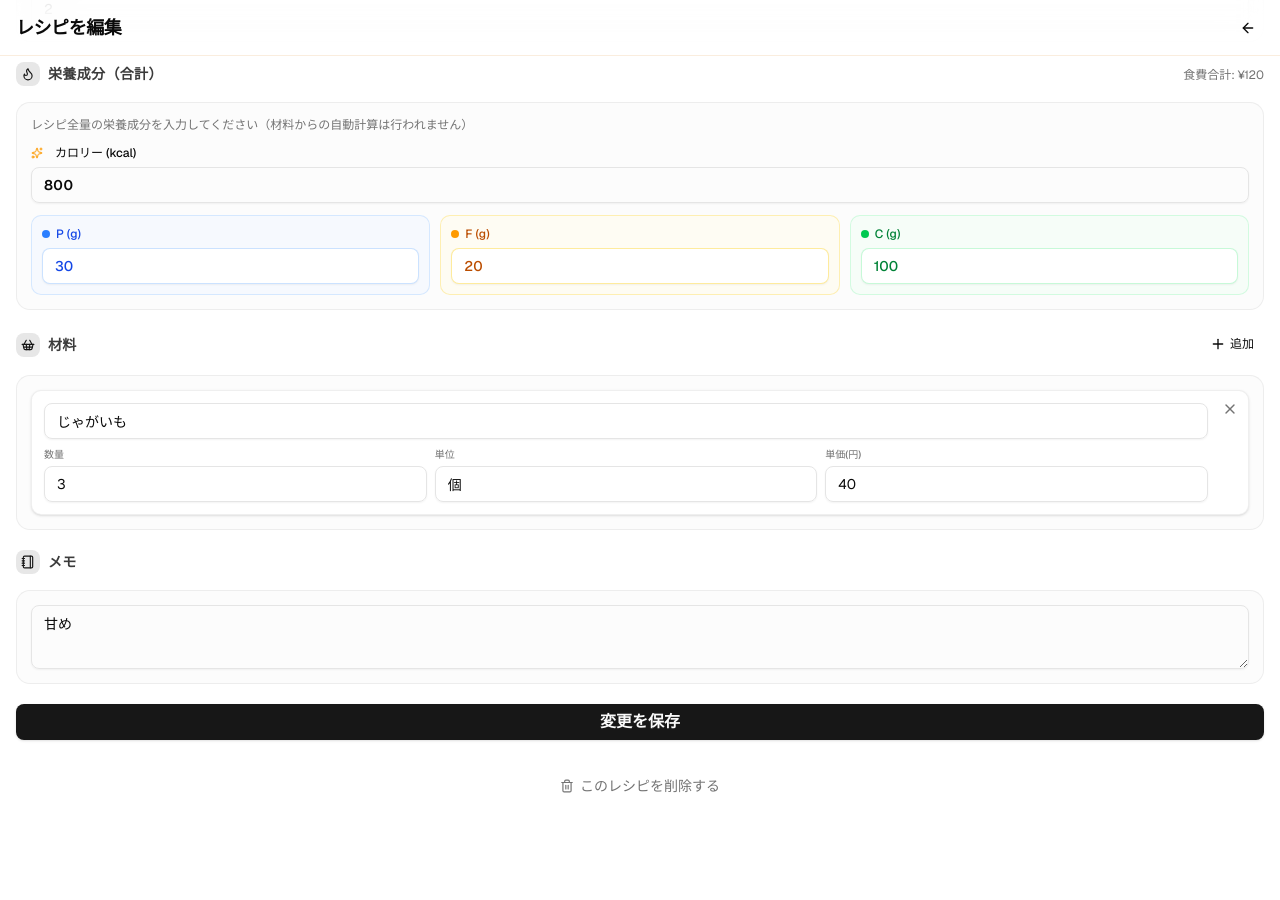
Scenario: RecipeFormView (S-05 レシピ登録/編集) › 編集 › 02 削除確認: 「このレシピを削除する」で、名前入りの確認が出て、キャンセルすると消さない
(page scrolled)
What coordinates should you click on to do the following:
click the button "このレシピを削除する"
I would click on:
 (640, 786)
Its box is [16,768,1264,804].
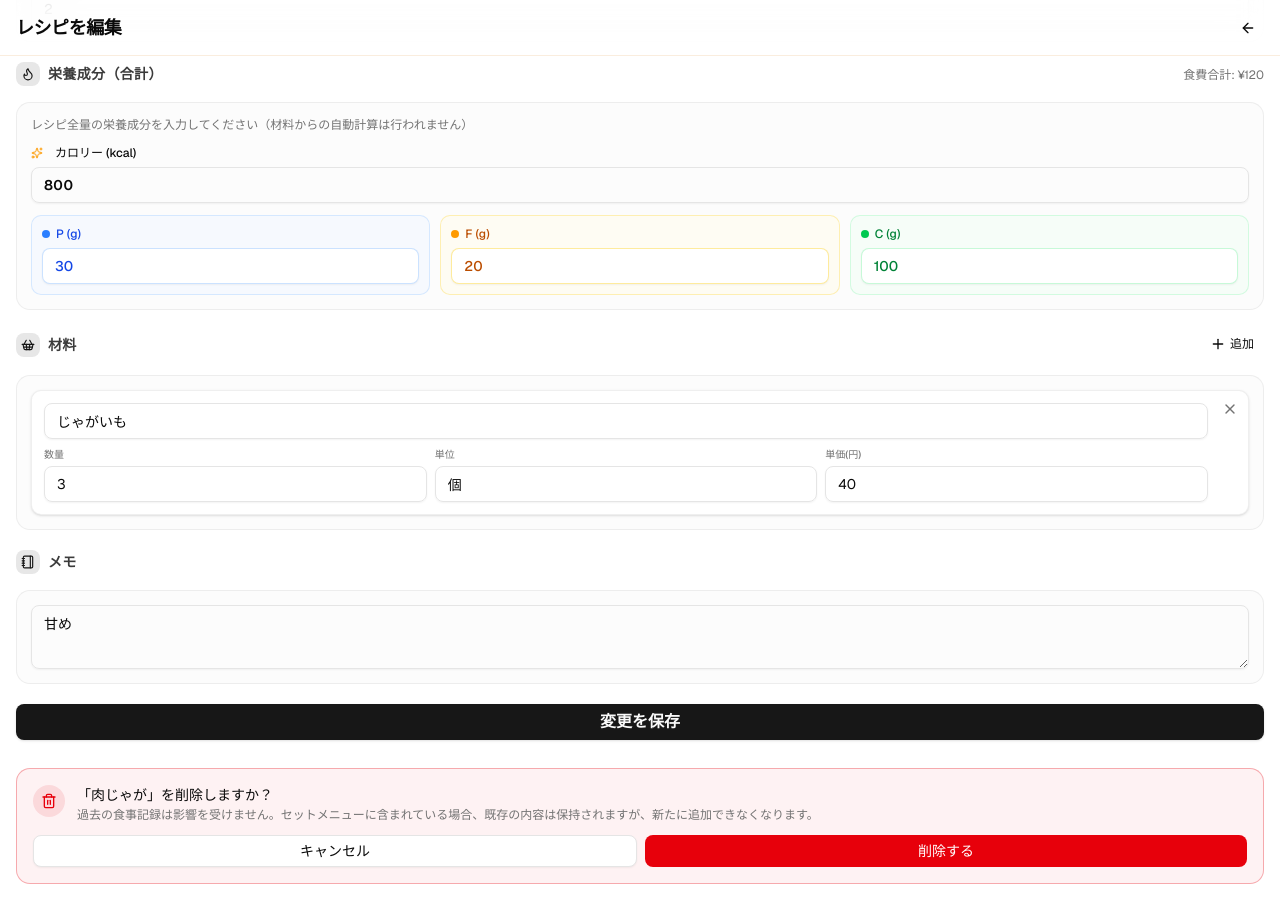
Expected: the text "「肉じゃが」を削除しますか？" is shown, [77,786,273,804]
What coordinates should you click on to do the following:
click the button "キャンセル"
I would click on:
 (335, 851)
Its box is [33,835,637,867].
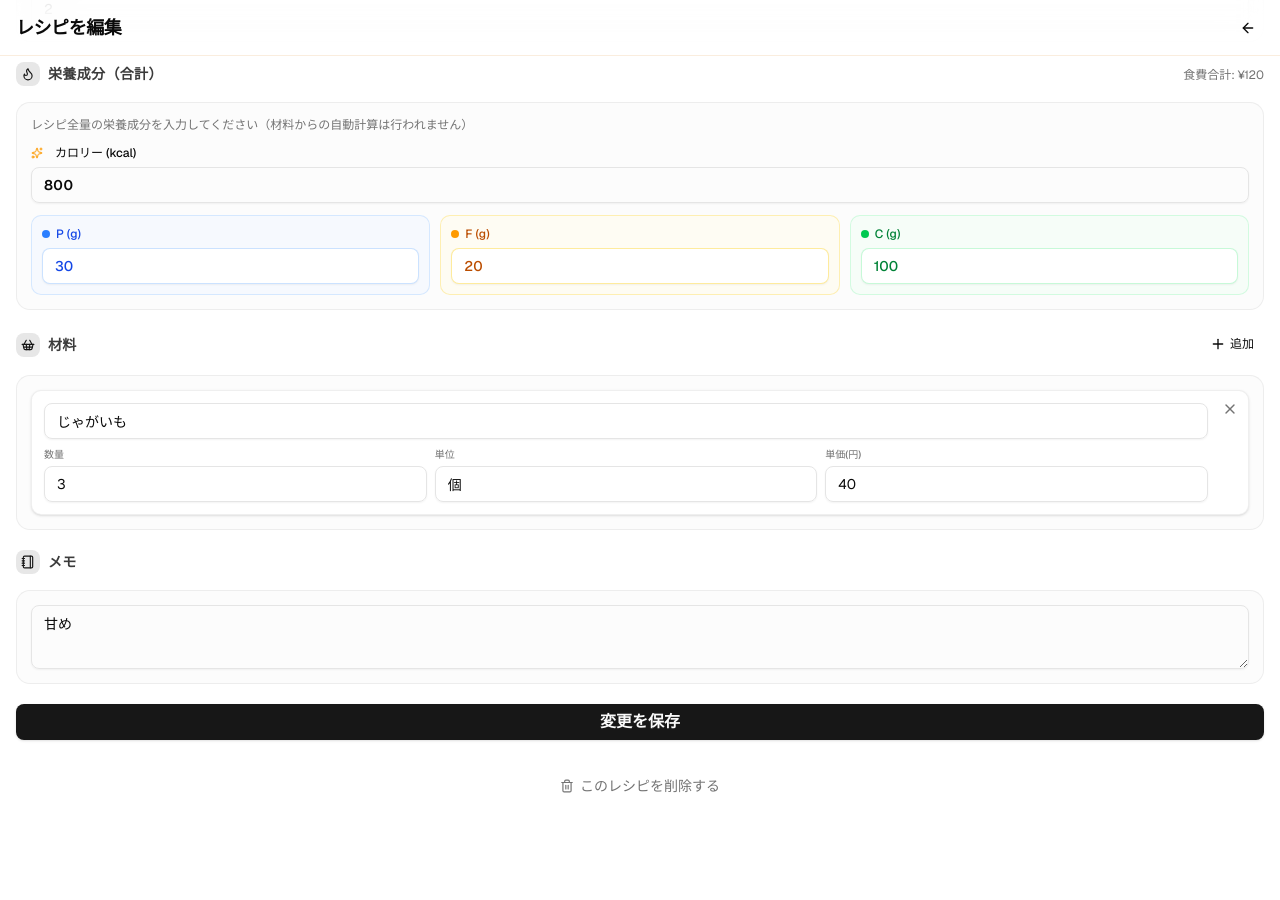
Expected: the text "「肉じゃが」を削除しますか？" is gone
